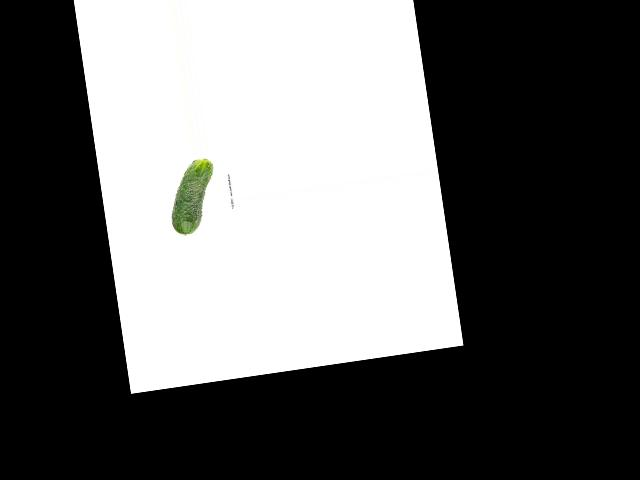cucumber: (163, 157, 222, 237)
